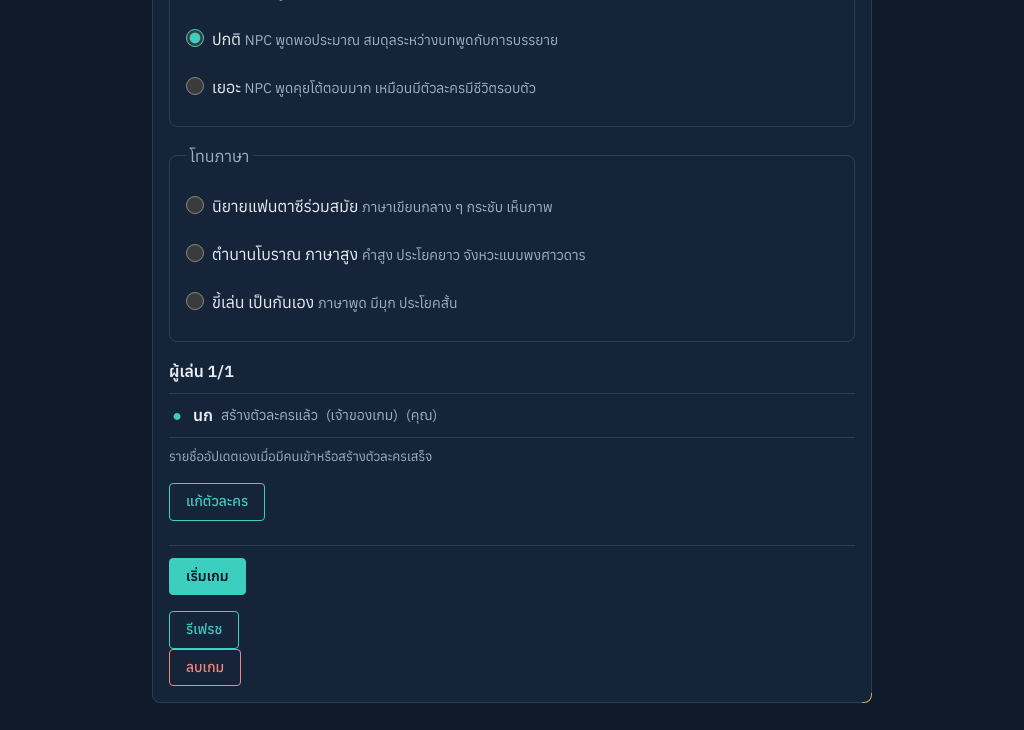
Scenario: Character loot step (GEN-048) › C5: an AI error shows the message and a retry button; the old set stays and the retry works
(page scrolled)
Click the button "แก้ตัวละคร" at (217, 502), box [169,483,265,521]
(page scrolled)
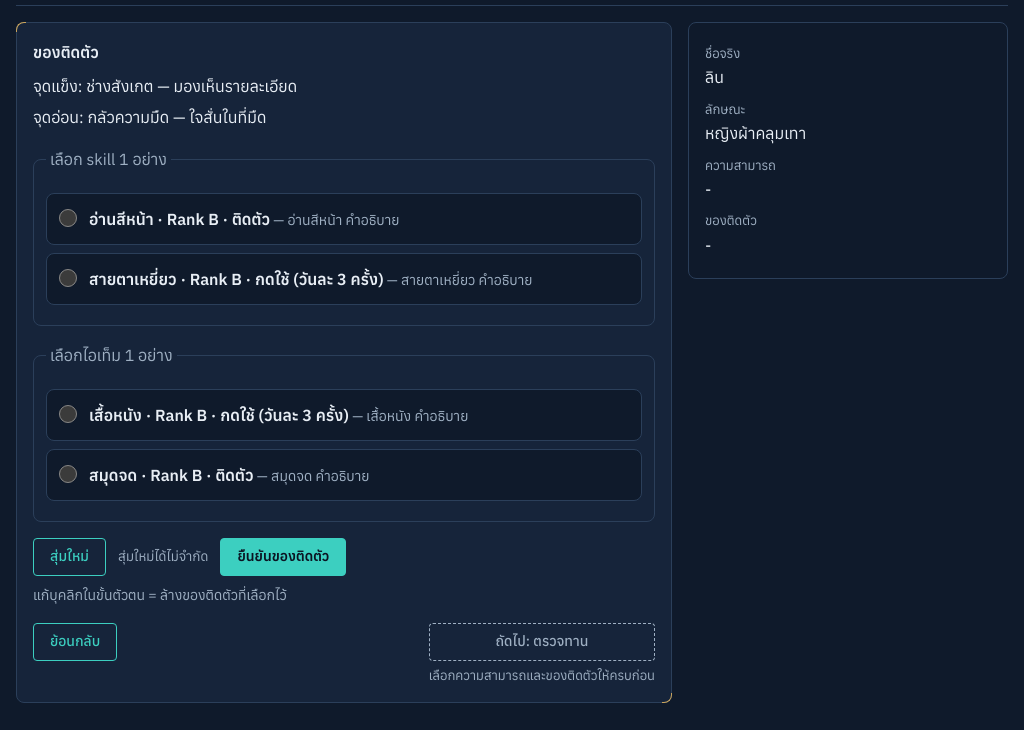
Click the button "สุ่มใหม่" at (70, 557), box [33,538,106,576]
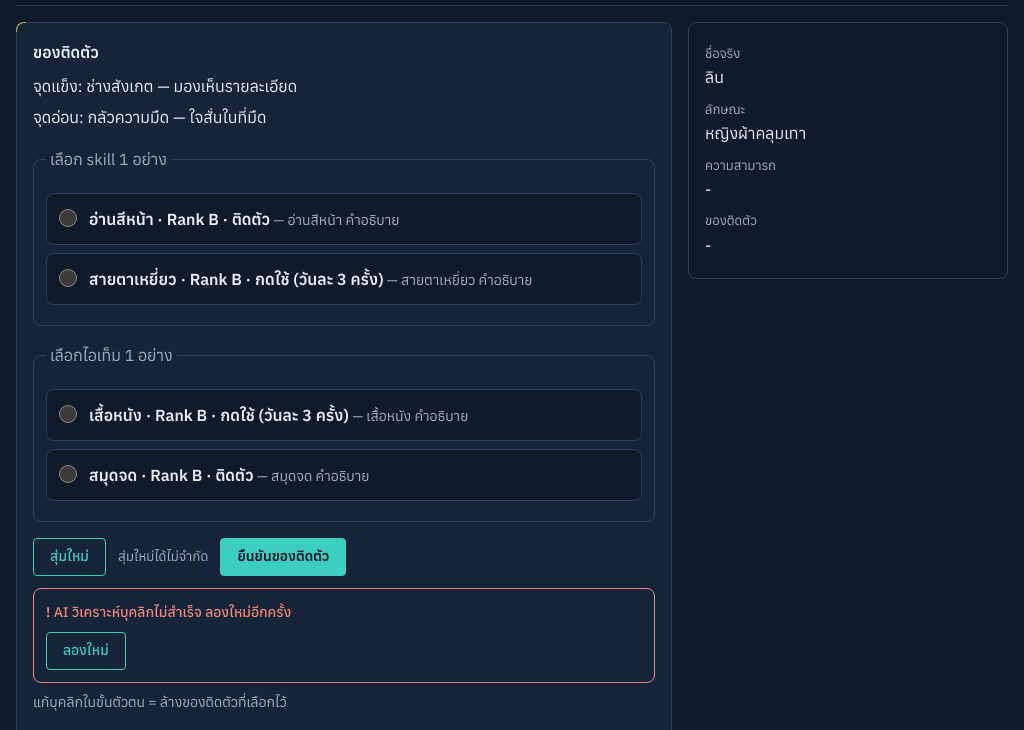
Expected: the text "จุดแข็ง: ช่างสังเกต — มองเห็นรายละเอียด" is shown, [33,76,297,96]
Expected: the message shows "AI วิเคราะห์บุคลิกไม่สำเร็จ", [54,603,291,621]
Click the button "ลองใหม่" at (86, 651), box [46,632,126,670]
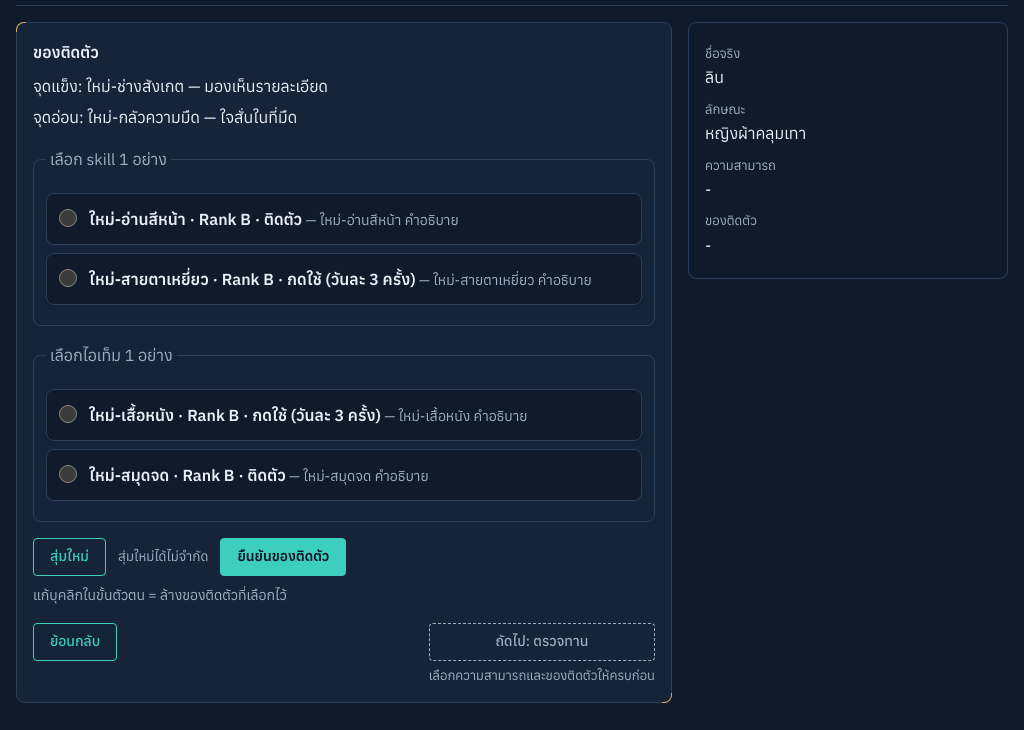
Expected: the text "จุดแข็ง: ใหม่-ช่างสังเกต — มองเห็นรายละเอียด" is shown, [33,76,328,96]
Expected: the message "AI วิเคราะห์บุคลิกไม่สำเร็จ ลองใหม่อีกครั้ง" is gone
